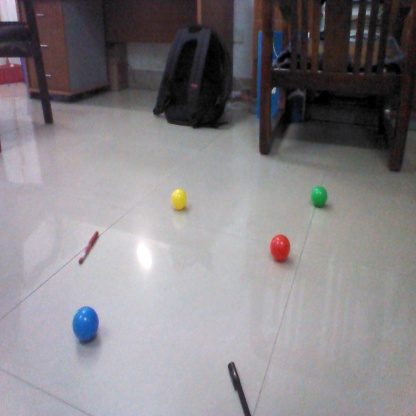ball: (74, 307, 103, 342), (270, 232, 291, 263), (308, 184, 332, 208), (170, 188, 191, 211)
pen: (226, 362, 256, 415), (80, 232, 99, 264)
